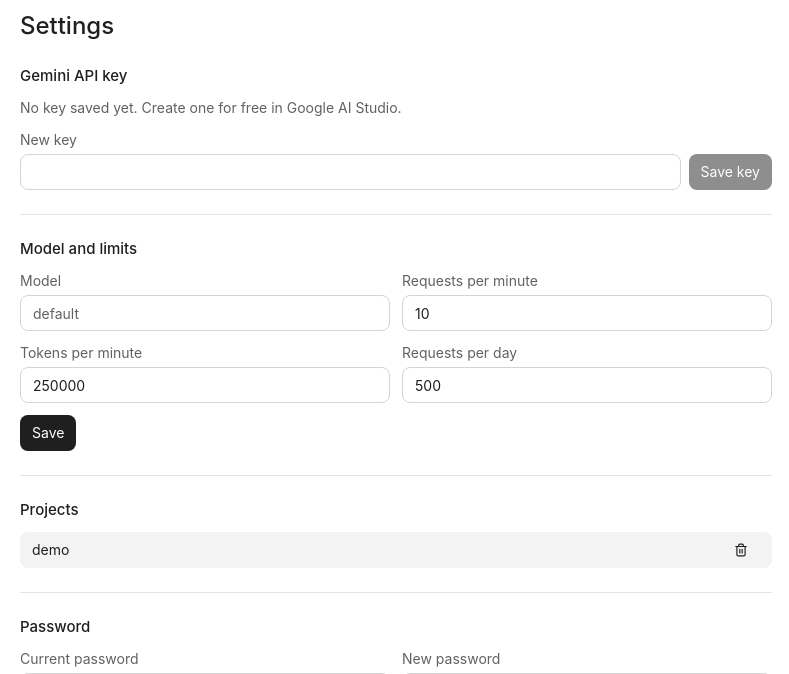
SettingsPage › says when the model settings are saved and stops saying it once they are edited again
The width and height of the screenshot is (789, 674).
Click the button "Save". click: point(48, 433)
box: [20,415,76,451]
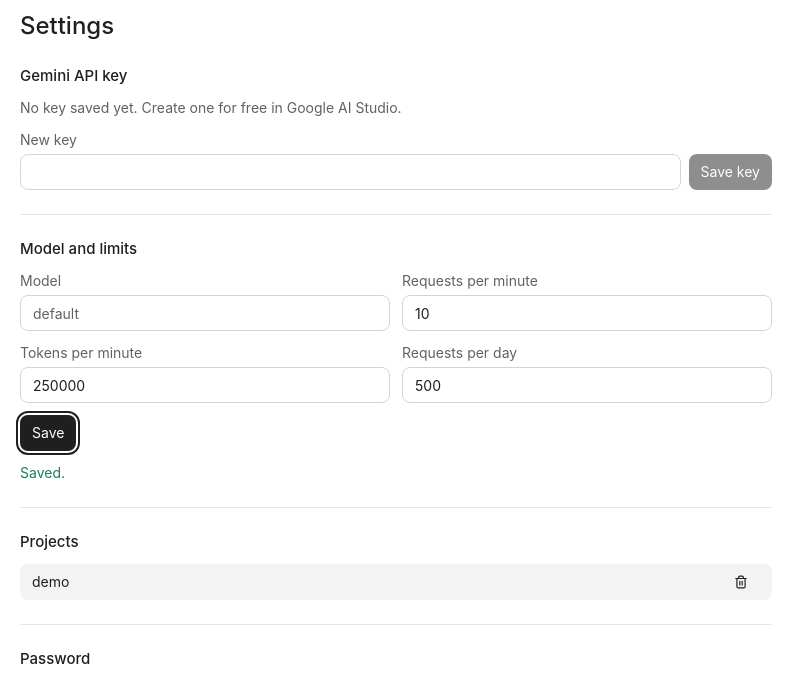
Check: the message shows "Saved", box [20,464,65,481]
Type "x" into the field labelled "Model". click: point(205, 313)
box: [20,295,390,331]
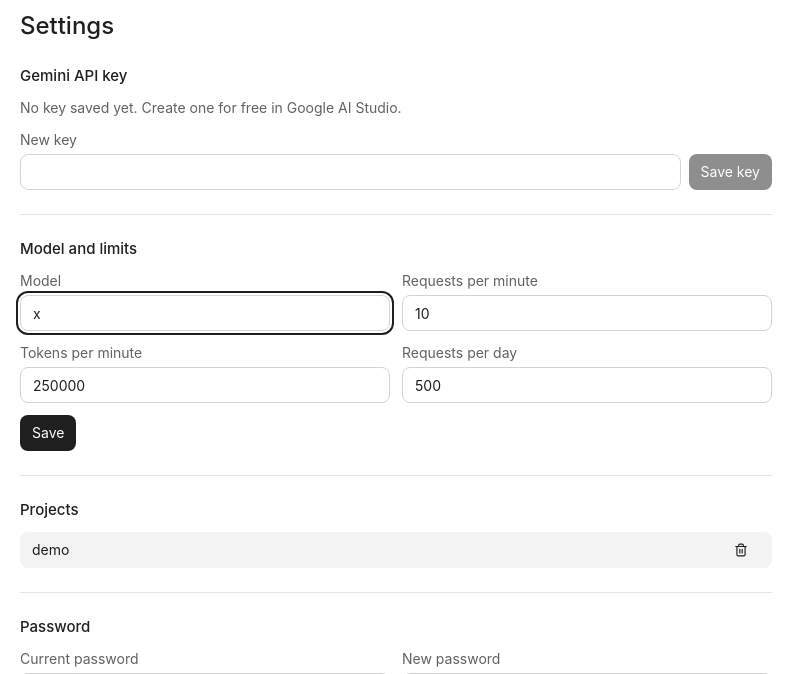
Check: the message "Saved." is gone
